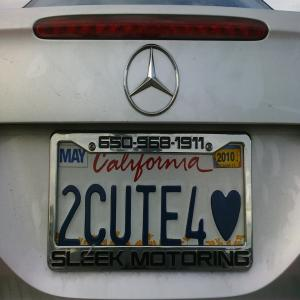Vehicle-registration-plate: (49, 129, 253, 272)
